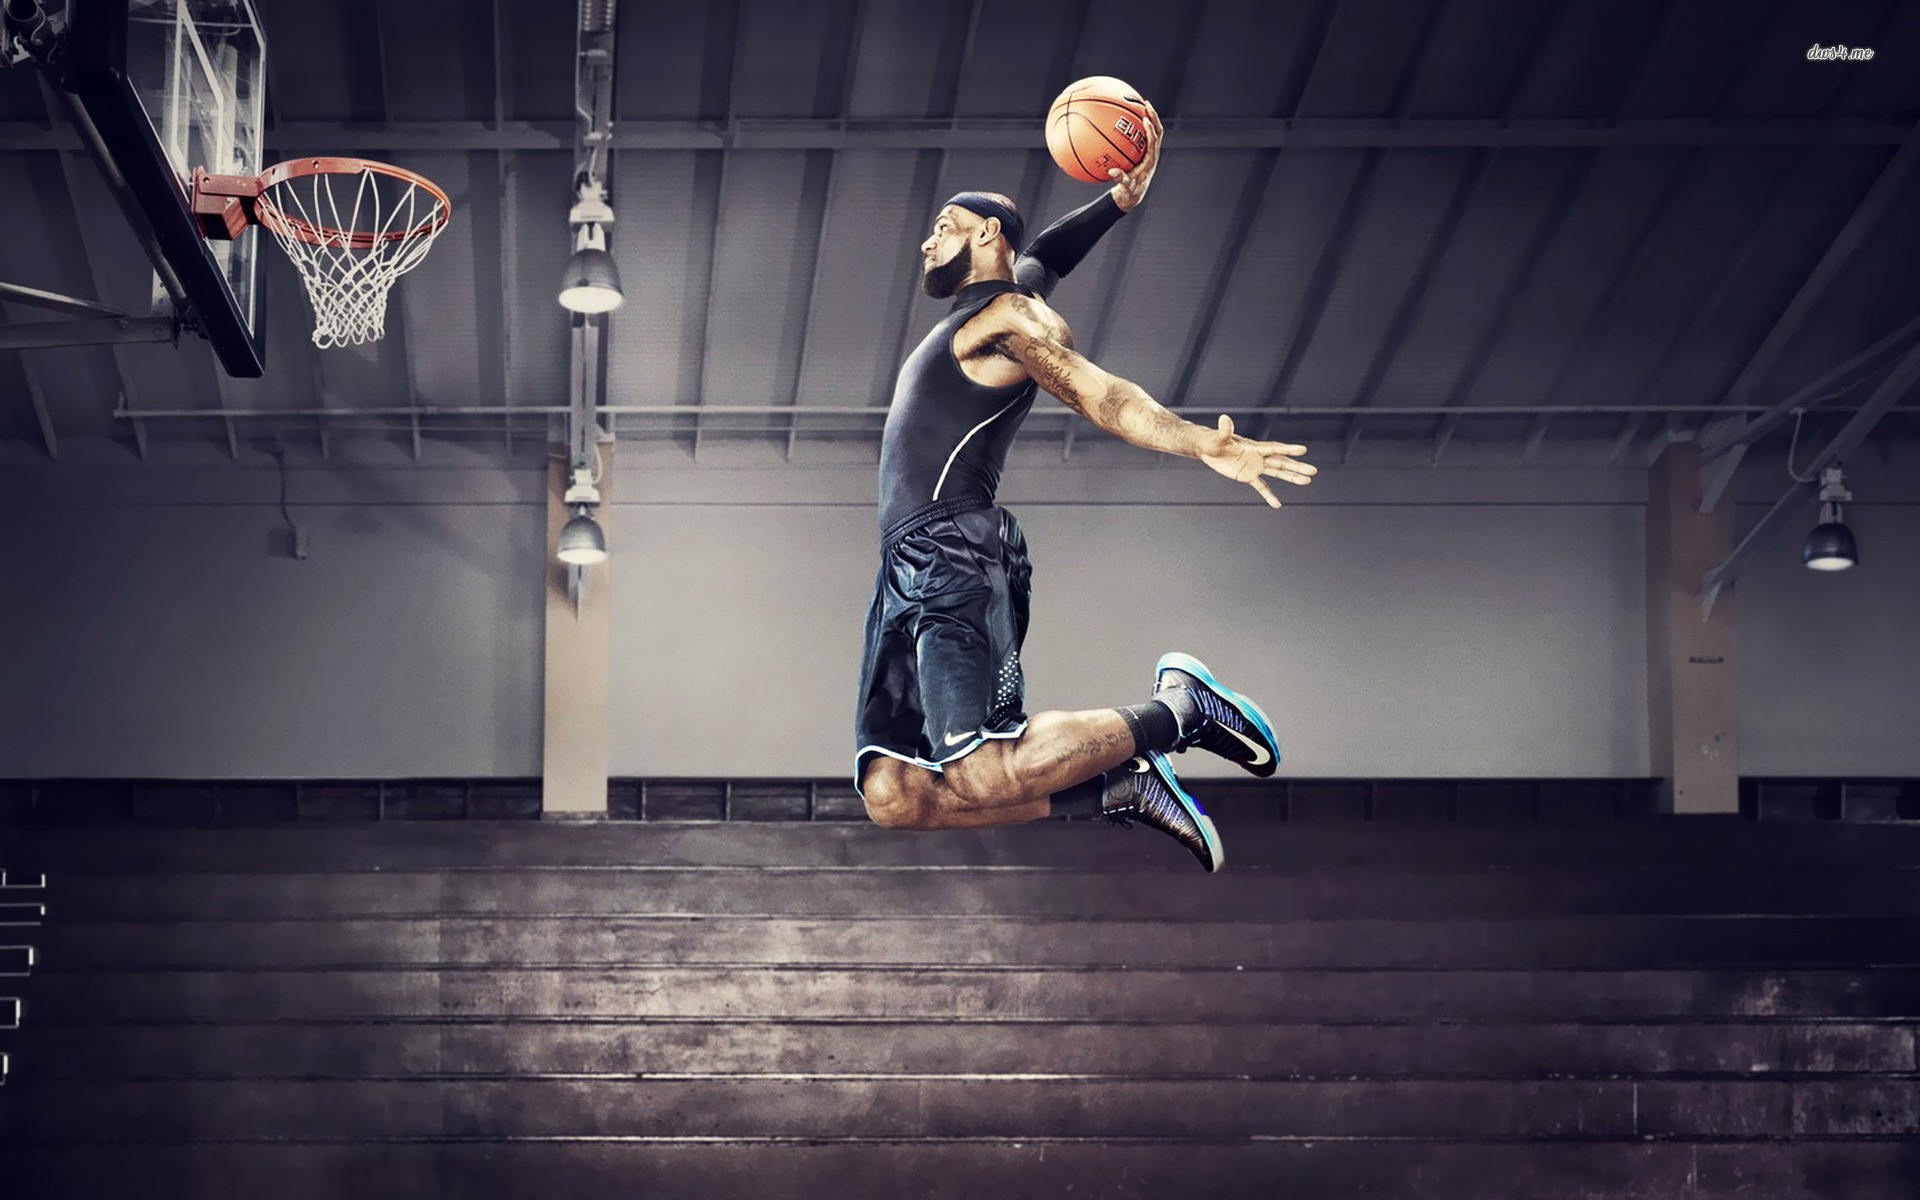ball: (1046, 71, 1156, 187)
